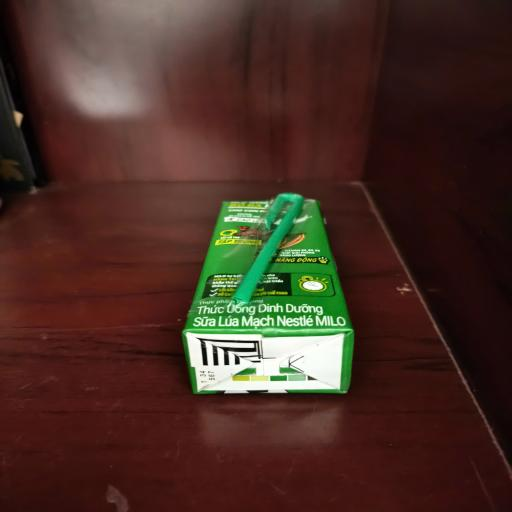milo: (183, 198, 355, 394)
